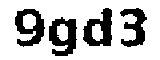3: (117, 4, 148, 54)
9: (12, 7, 45, 51)
d: (81, 6, 114, 49)
g: (49, 15, 80, 60)
